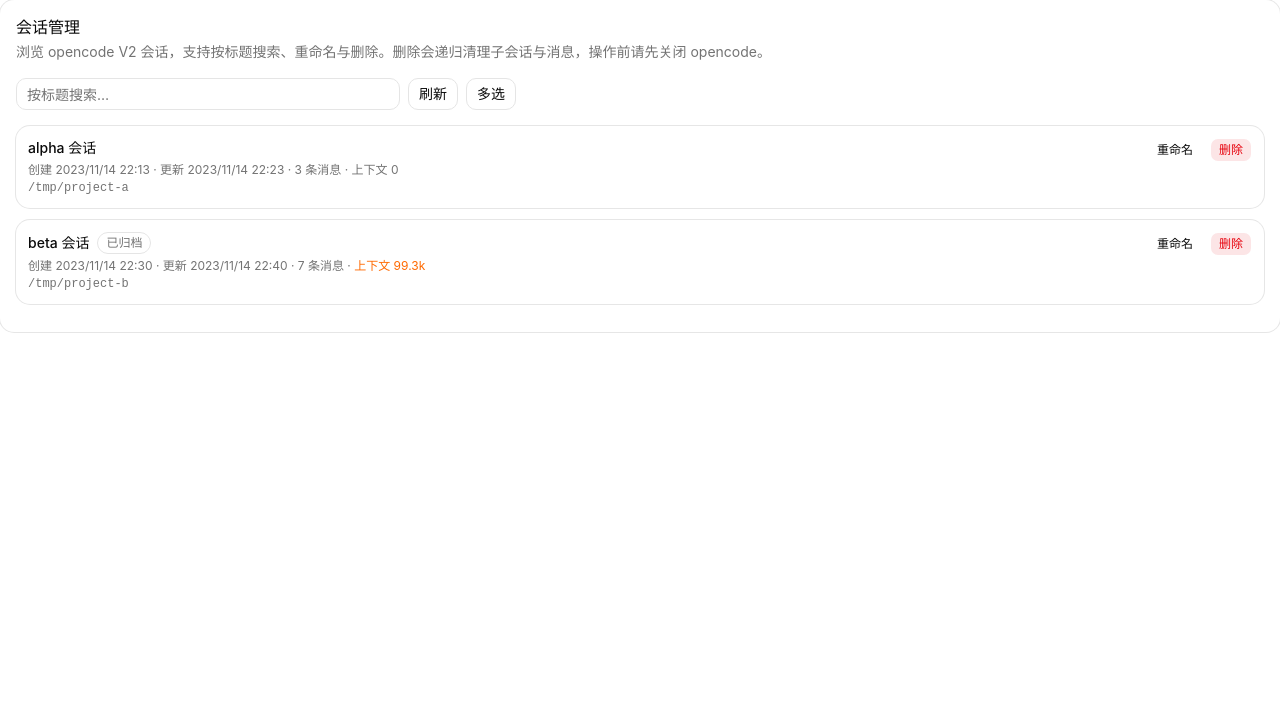
Test: SessionsPage › cancels a rename via the cancel button
The image size is (1280, 720).
Expected: the button "alpha 会话" is shown, [28, 138, 96, 158]
Click the button with aria-label "重命名 alpha 会话" at (1175, 150), box [1148, 138, 1202, 162]
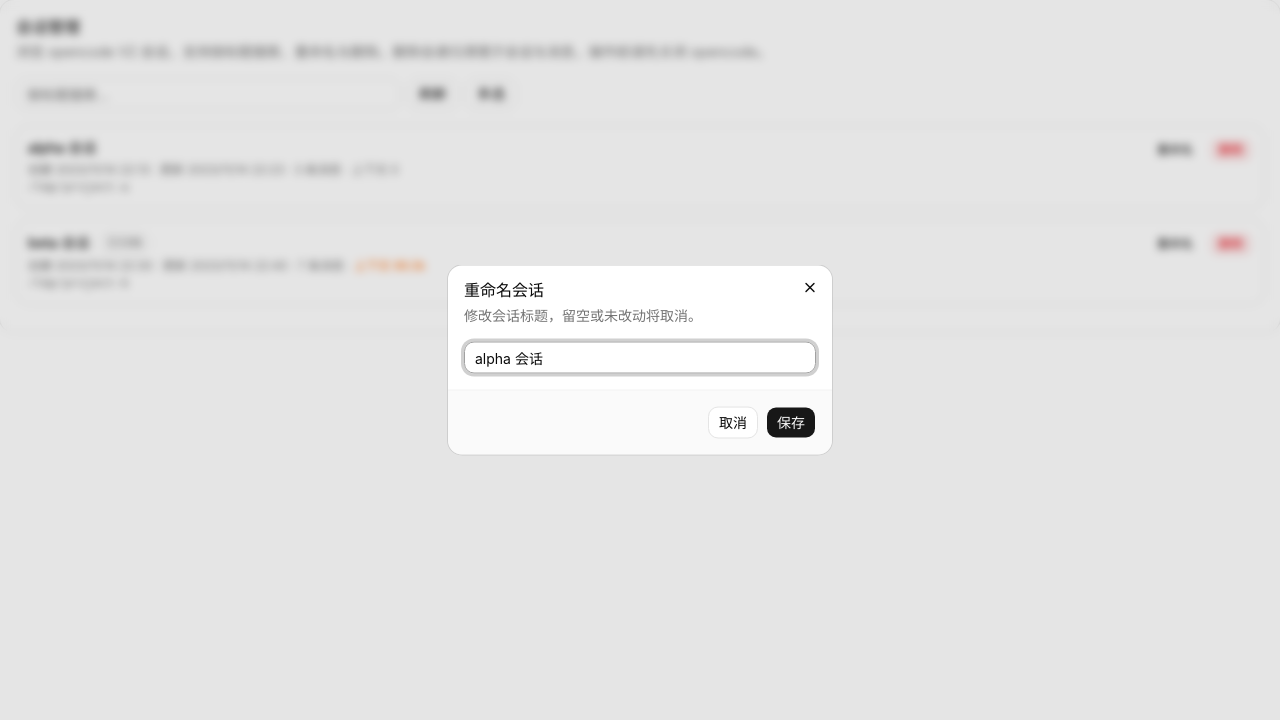
Type "不应保存" into the field named "会话标题" at (640, 358), box [464, 342, 816, 374]
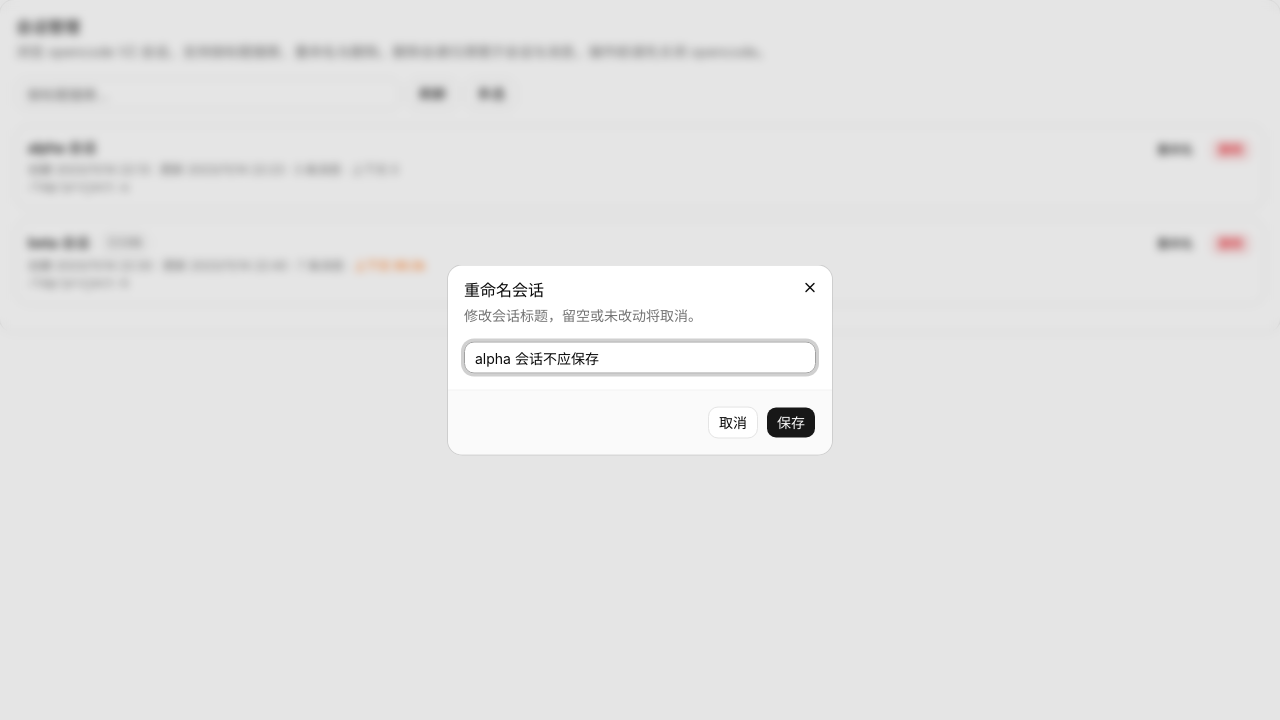
Click the button "取消" at (733, 422), box [708, 406, 758, 438]
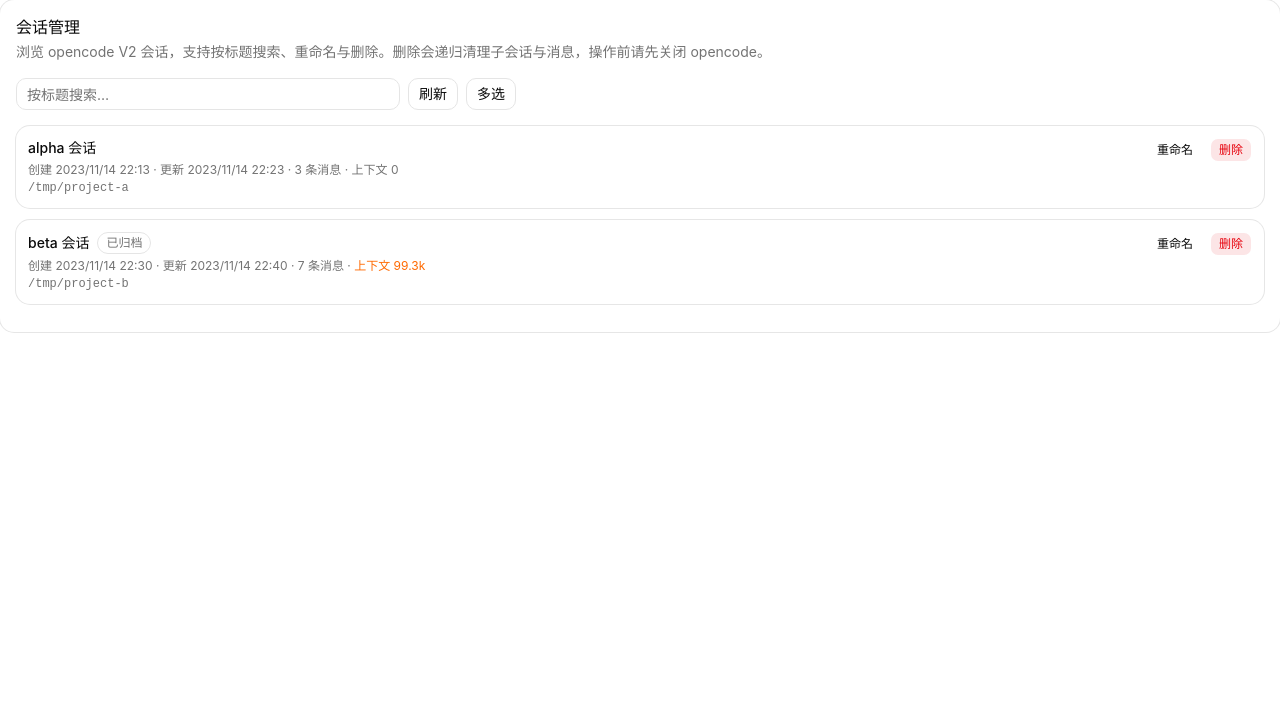
Result: the heading "重命名会话" is gone
